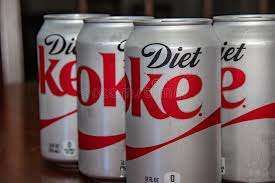can: (124, 19, 222, 183), (220, 12, 273, 181), (75, 16, 122, 179), (35, 12, 75, 170)
